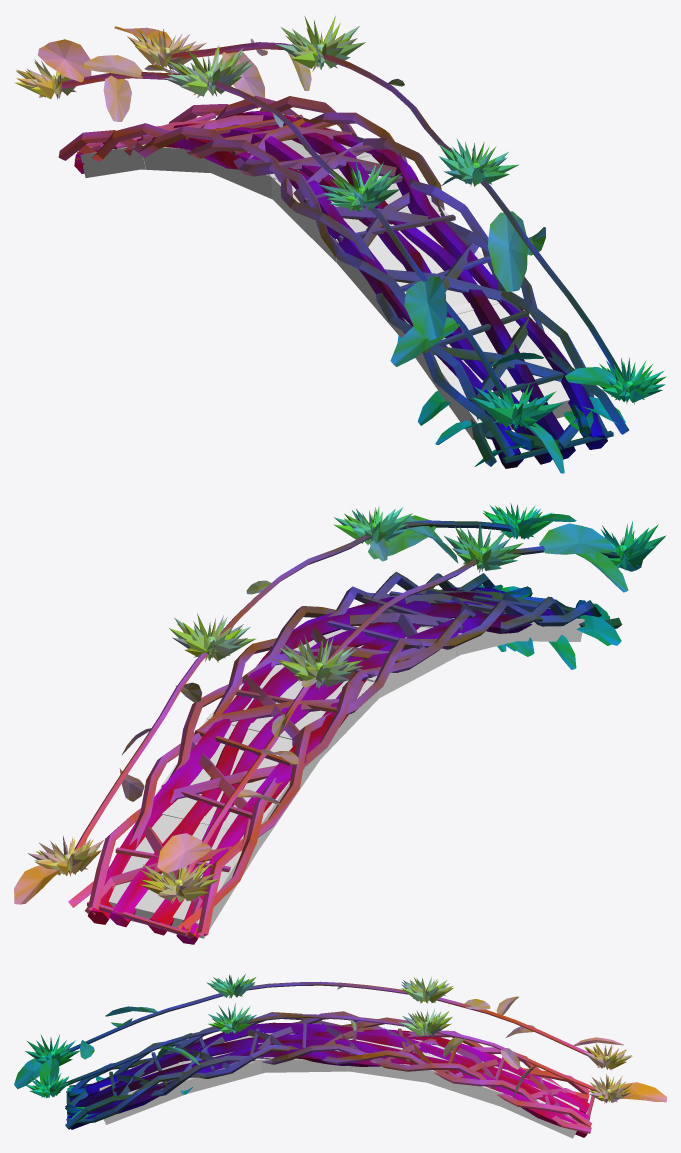
The model's file is Plant_Bridge_05.fbx.
3 renders of one model, top to bottom at view 1: azimuth 30°, elevation 25°; view 2: azimuth 150°, elevation 25°; view 3: azimuth 270°, elevation 25°, orthographic. The views are drawn at different scales.
Visible parts, largest first — view 1: Plant_Bridge_05, COL_05_0, COL_05_1, COL_05_2, COL_05_3, COL_05_5, COL_05_4; view 2: Plant_Bridge_05, COL_05_5, COL_05_4, COL_05_3, COL_05_2, COL_05_0, COL_05_1; view 3: Plant_Bridge_05, COL_05_4, COL_05_1, COL_05_2, COL_05_3, COL_05_0, COL_05_5.
Part boxes in pixels (x1,y1,x2,y2): Plant_Bridge_05: (14, 15, 666, 473); COL_05_0: (405, 291, 571, 439); COL_05_1: (332, 210, 513, 338); COL_05_2: (268, 153, 451, 262); COL_05_3: (208, 127, 371, 198); COL_05_5: (80, 144, 145, 177); COL_05_4: (138, 147, 209, 172); Plant_Bridge_05: (14, 503, 666, 944); COL_05_5: (108, 807, 262, 938); COL_05_4: (154, 713, 319, 847); COL_05_3: (206, 664, 378, 761); COL_05_2: (293, 604, 460, 698); COL_05_0: (517, 618, 584, 641); COL_05_1: (424, 618, 520, 655); Plant_Bridge_05: (14, 974, 666, 1137); COL_05_4: (423, 1044, 512, 1108); COL_05_1: (178, 1032, 265, 1093); COL_05_2: (255, 1033, 352, 1072); COL_05_3: (346, 1038, 432, 1083); COL_05_0: (99, 1061, 190, 1124); COL_05_5: (502, 1069, 579, 1138).
Size of the model in its own units: 3.17 by 2.99 by 13.69.
